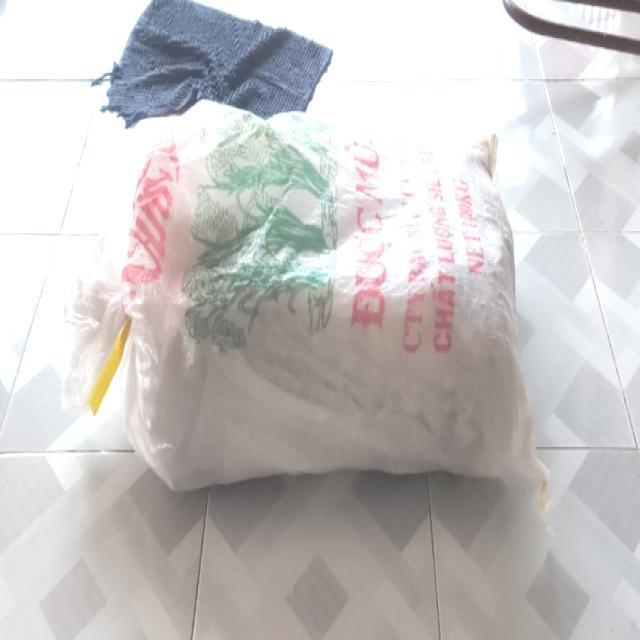gunny_bag: (64, 102, 549, 490)
